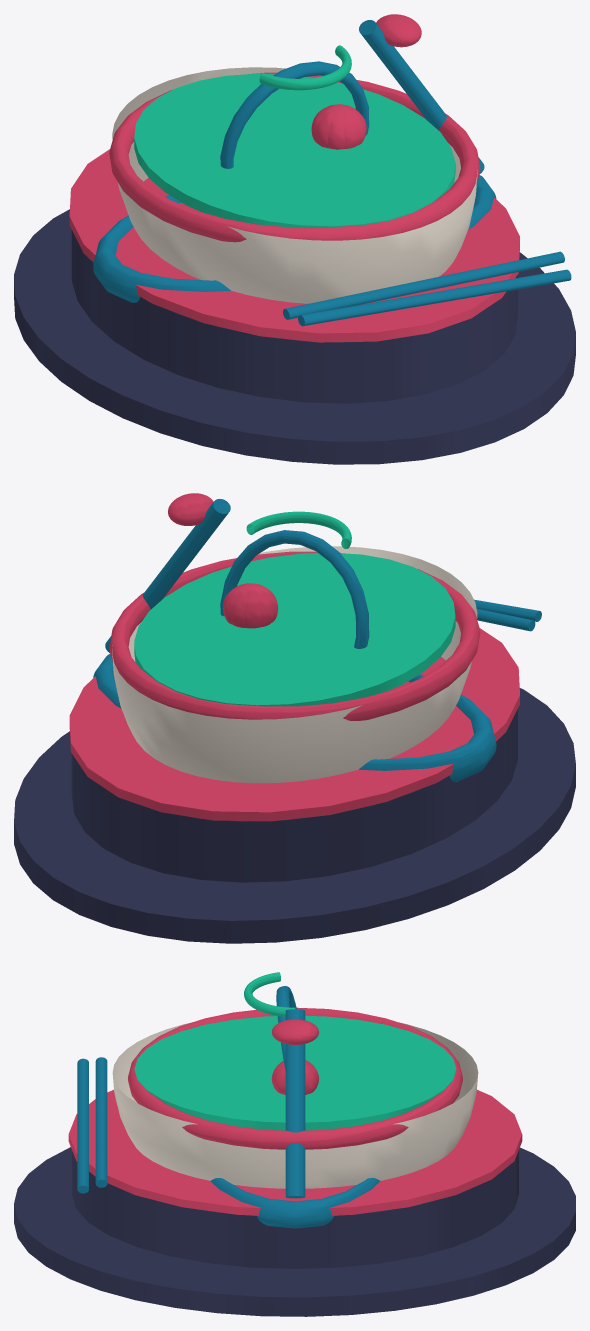
The model's file is 0326_揭秘食物图鉴_食用蘑菇.glb.
3 views of the same model, one above another, from view 1: azimuth 30°, elevation 25°; view 2: azimuth 150°, elevation 25°; view 3: azimuth 270°, elevation 25° (orthographic). The views are drawn at different scales.
Visible parts, largest first — view 1: card_0326; view 2: card_0326; view 3: card_0326.
Boxes of the visible parts, bbox=[...] form: card_0326: bbox=[14, 14, 575, 464]; card_0326: bbox=[14, 493, 575, 943]; card_0326: bbox=[14, 972, 575, 1316].
Bounding box in the file's own units: 1.63 × 1 × 2.07.
